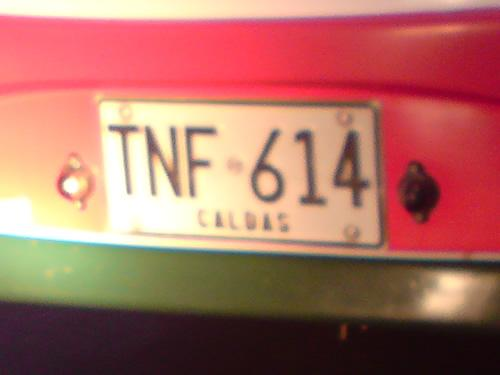placas: (96, 96, 385, 250)
